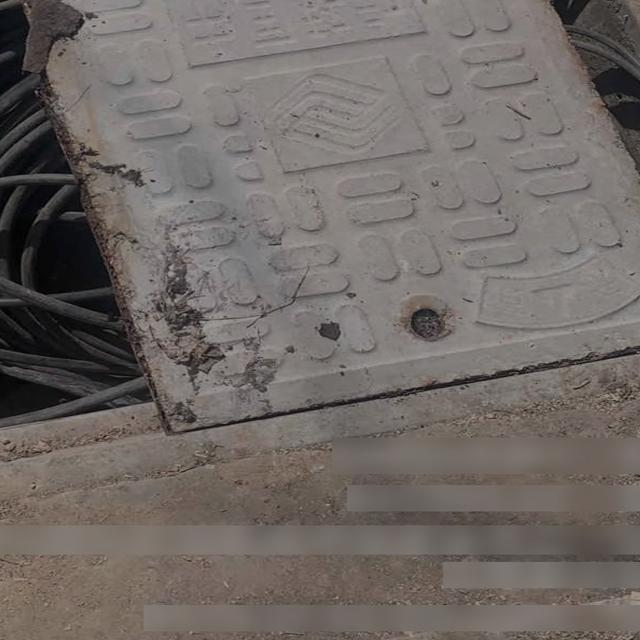lose: (0, 0, 640, 520)
